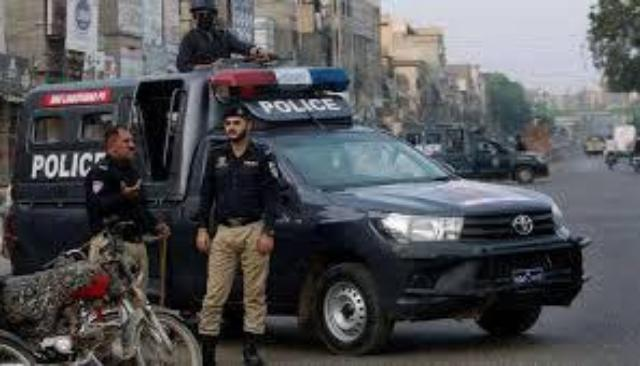police_car: (19, 65, 586, 360)
